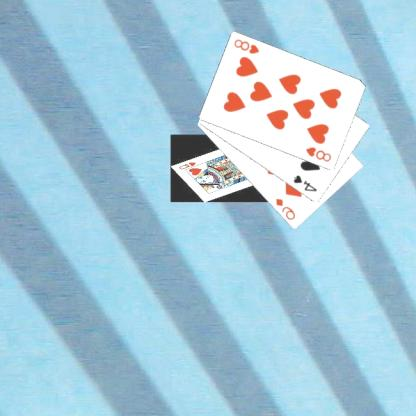4S: (292, 172, 320, 193)
8H: (233, 36, 262, 56), (304, 144, 334, 163)
9D: (275, 196, 298, 222)
